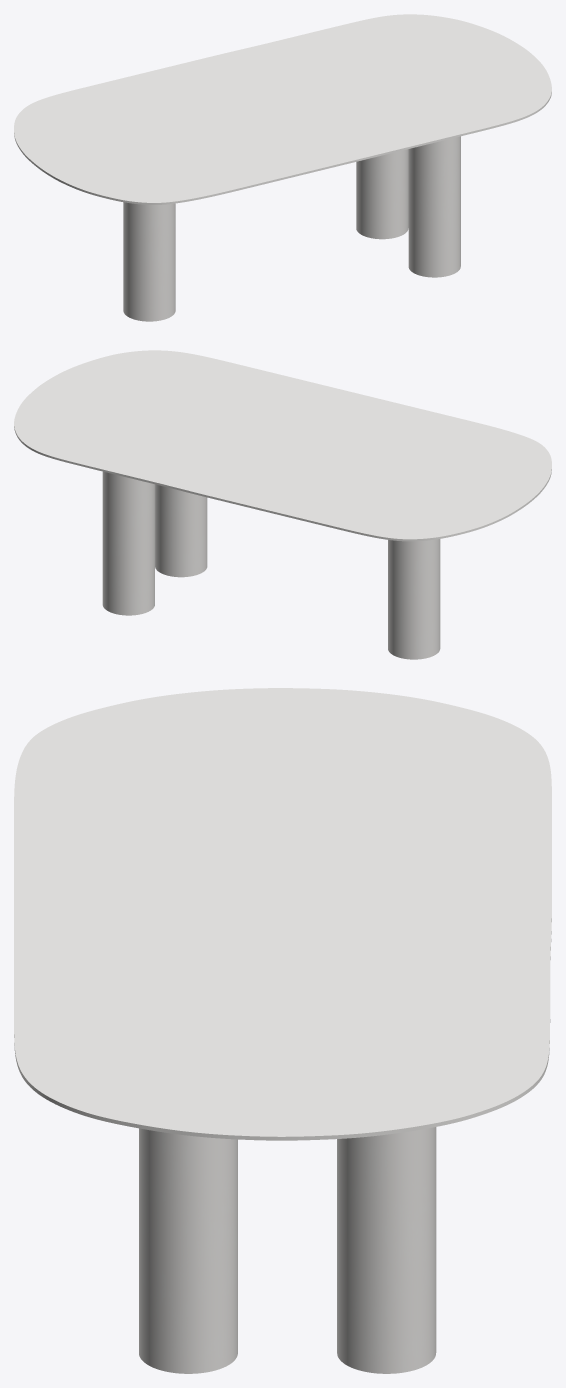
File: purewhite_oval_facet_cylinder.glb
3 views of the same model, one above another, from view 1: azimuth 30°, elevation 25°; view 2: azimuth 150°, elevation 25°; view 3: azimuth 270°, elevation 25° (orthographic). The views are drawn at different scales.
Visible parts, largest first — view 1: facet_oval, cylinder; view 2: facet_oval, cylinder; view 3: facet_oval, cylinder.
Boxes of the visible parts, x1,y1,x2,y2 form: facet_oval: (14, 14, 551, 204); cylinder: (123, 136, 460, 321); facet_oval: (14, 350, 551, 541); cylinder: (102, 471, 440, 659); facet_oval: (14, 688, 551, 1140); cylinder: (139, 1127, 436, 1373).
Bounding box in the file's own units: 7.5 × 2.52 × 3.8.
1 material, 1 textured.
